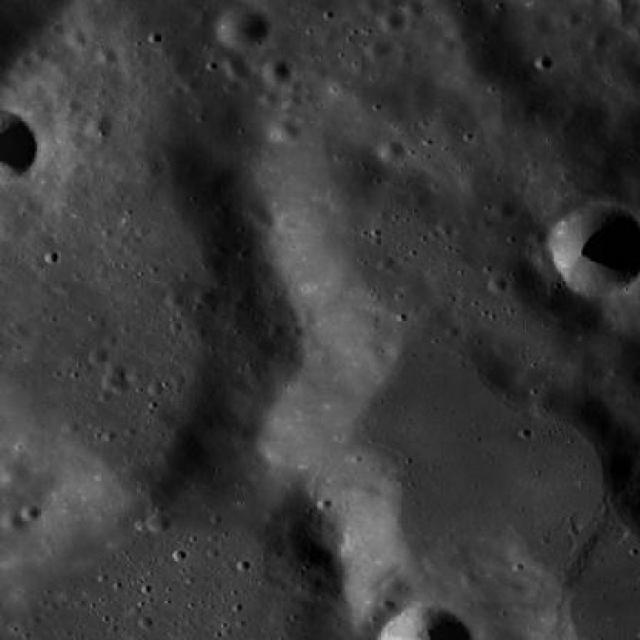crater: (0, 154, 303, 488), (324, 50, 430, 144), (466, 254, 552, 332), (440, 46, 494, 94), (218, 7, 271, 53), (0, 455, 26, 488), (378, 138, 408, 164), (263, 59, 292, 85), (271, 116, 300, 142), (85, 114, 113, 138), (1, 508, 28, 532), (492, 197, 517, 220), (224, 56, 250, 78), (380, 8, 406, 30), (253, 208, 278, 229), (369, 41, 394, 62), (64, 28, 88, 48), (147, 512, 170, 532), (410, 190, 432, 208), (614, 10, 634, 28), (196, 284, 216, 302), (586, 30, 605, 48), (316, 26, 336, 43), (89, 347, 109, 364), (534, 54, 554, 70), (20, 503, 40, 519), (403, 0, 424, 15), (362, 0, 384, 14), (96, 46, 115, 62), (488, 276, 507, 292), (434, 35, 452, 51), (564, 12, 582, 28), (112, 378, 130, 394), (0, 1, 2, 2)
